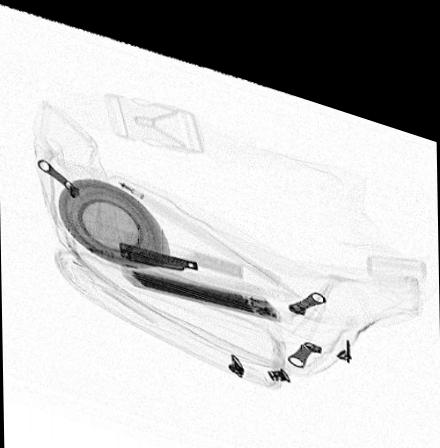Powerbank: (119, 254, 283, 305)
